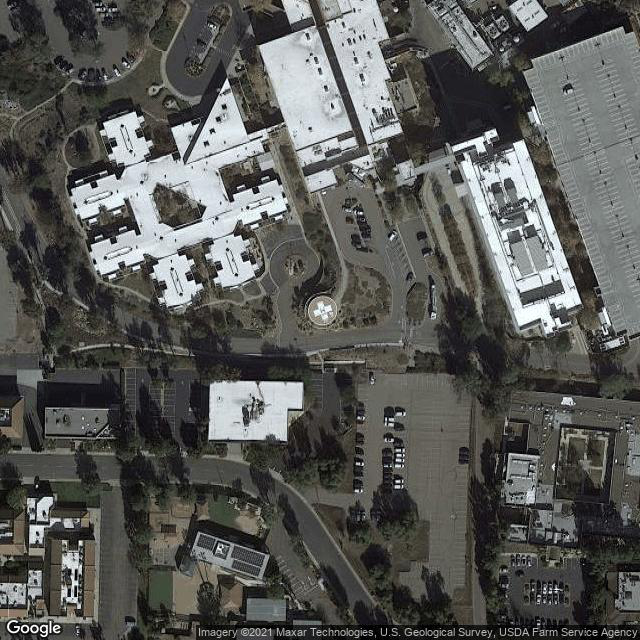Helipad: (306, 293, 339, 327)
